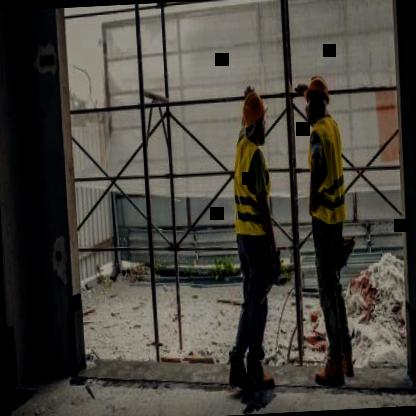helmet: (238, 84, 268, 145), (302, 73, 332, 120)
